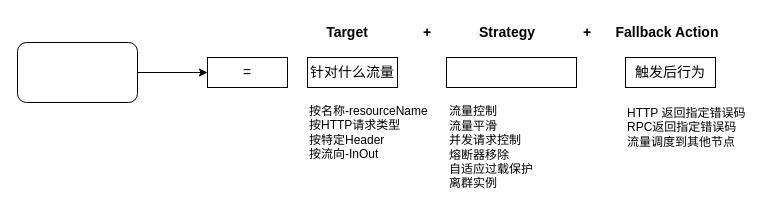
The diagram is 773 pixels wide and 214 high, and some of its shapes have lost their labels. Here are the shapes that lost their labels. From the top down, the centre of each, then its label:
pixel 77 72: RULE
pixel 511 72: 对应什么治理策略
